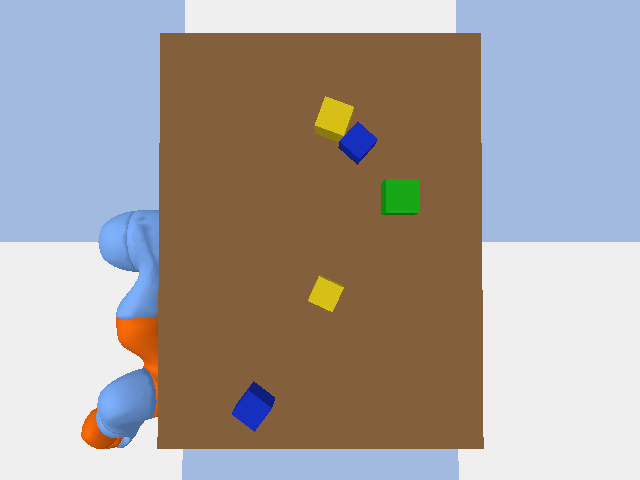blue_obj: (232, 381, 274, 431), (338, 121, 377, 164)
green_obj: (381, 179, 419, 214)
yellow_obj: (314, 96, 353, 141), (308, 275, 343, 311)
